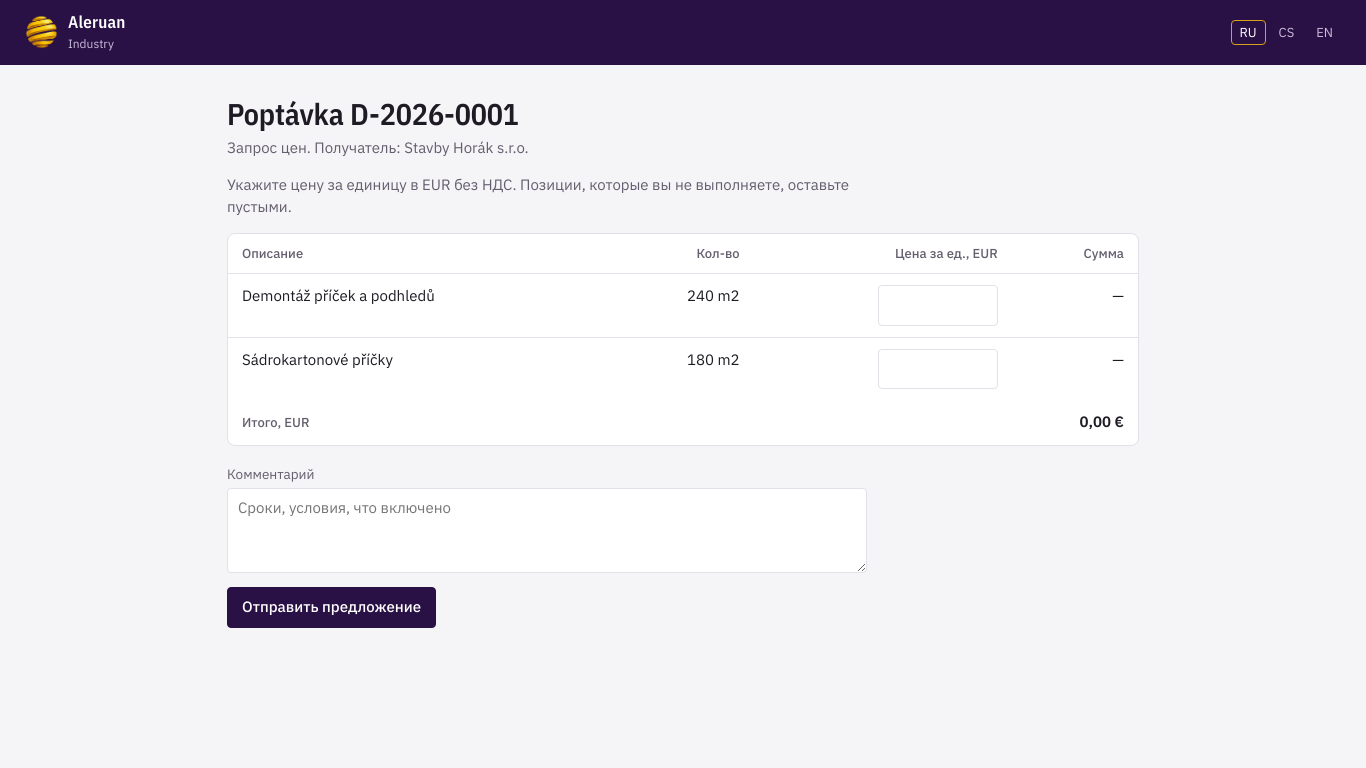
Scenario: deal screens › offer page: subcontractor fills prices and sends the offer
Expected: the text "Запрос цен. Получатель: Stavby Horák s.r.o." is shown, [227, 138, 529, 157]
Type "abc" into the field named "Цена за единицу" at (938, 305), box [878, 285, 998, 326]
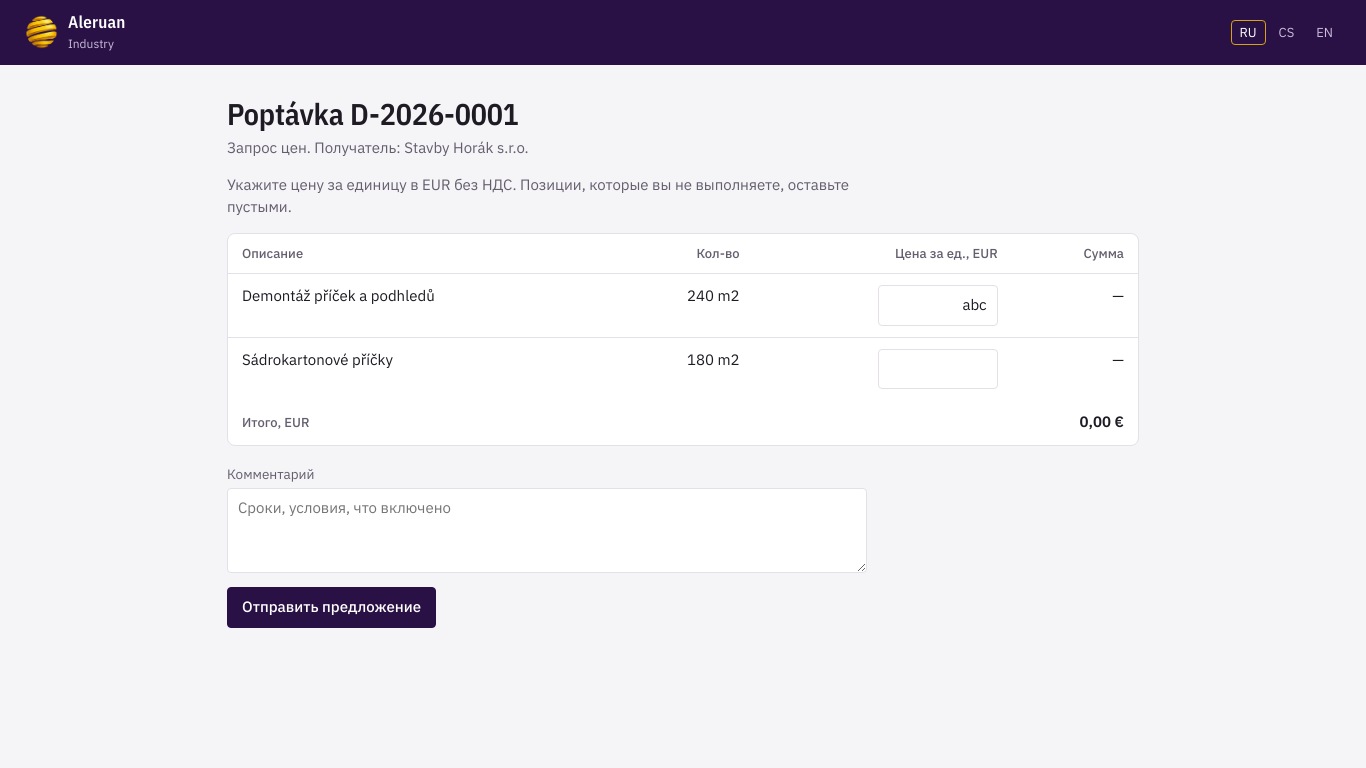
Click the button "Отправить предложение" at (332, 608), box [227, 587, 436, 628]
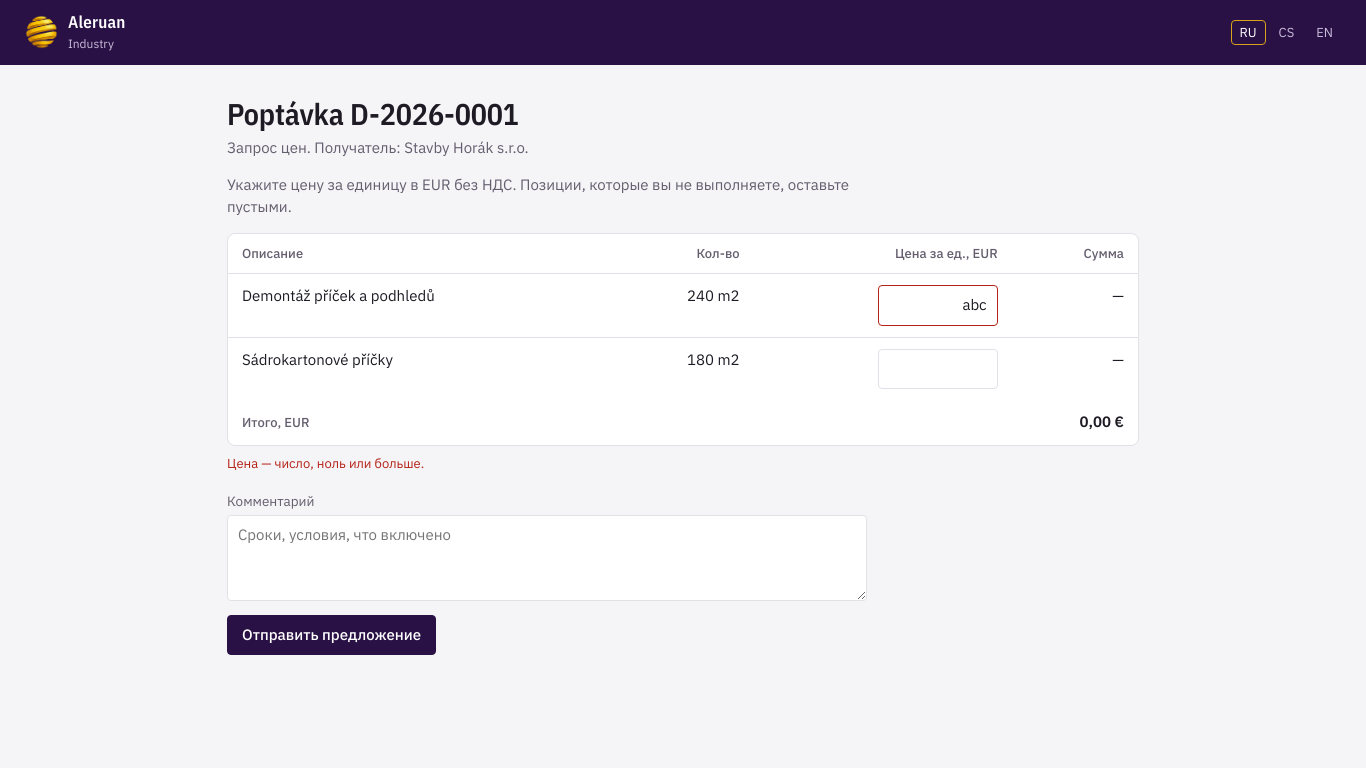
Expected: the text "Цена — число, ноль или больше." is shown, [227, 454, 424, 472]
Replace the text in the field named "Цена за единицу" with "9" at (938, 305), box [878, 285, 998, 326]
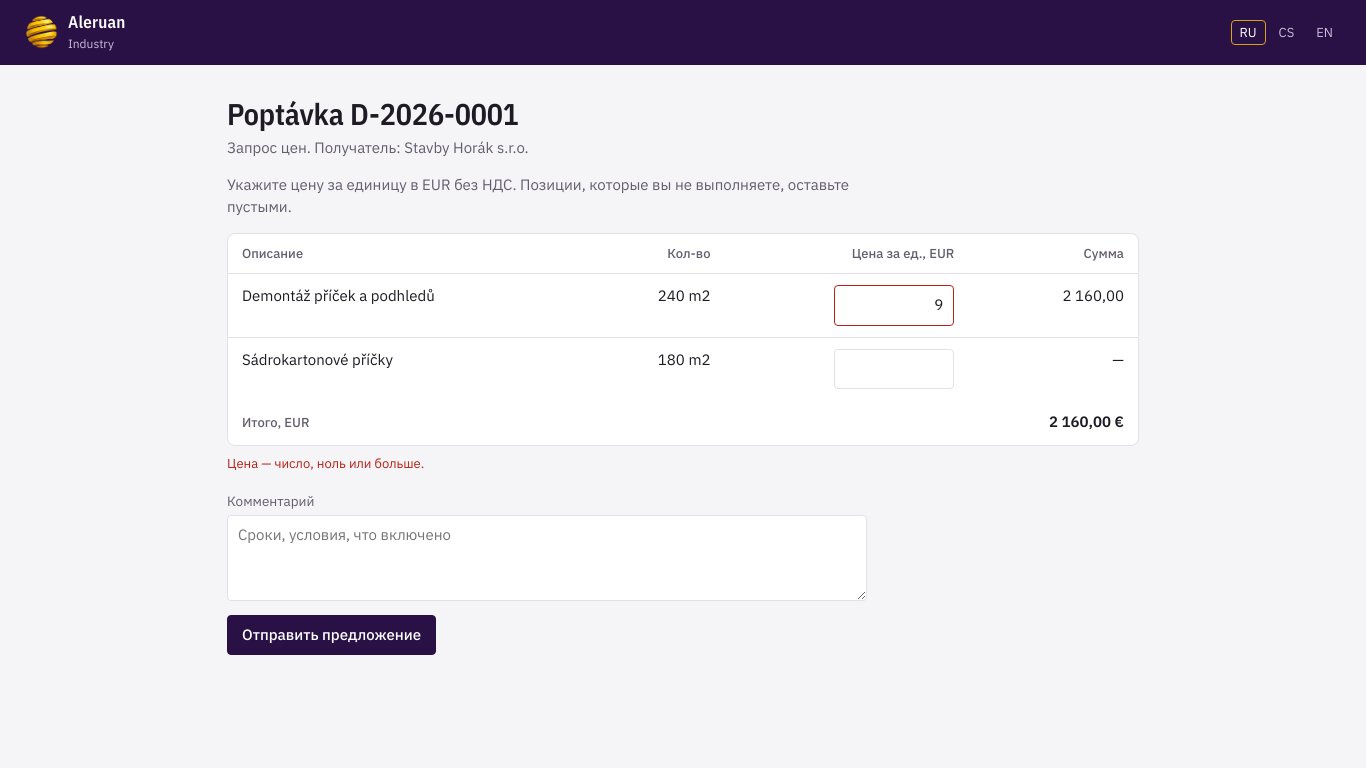
Type "22,5" into the field named "Цена за единицу" at (894, 369), box [834, 348, 954, 389]
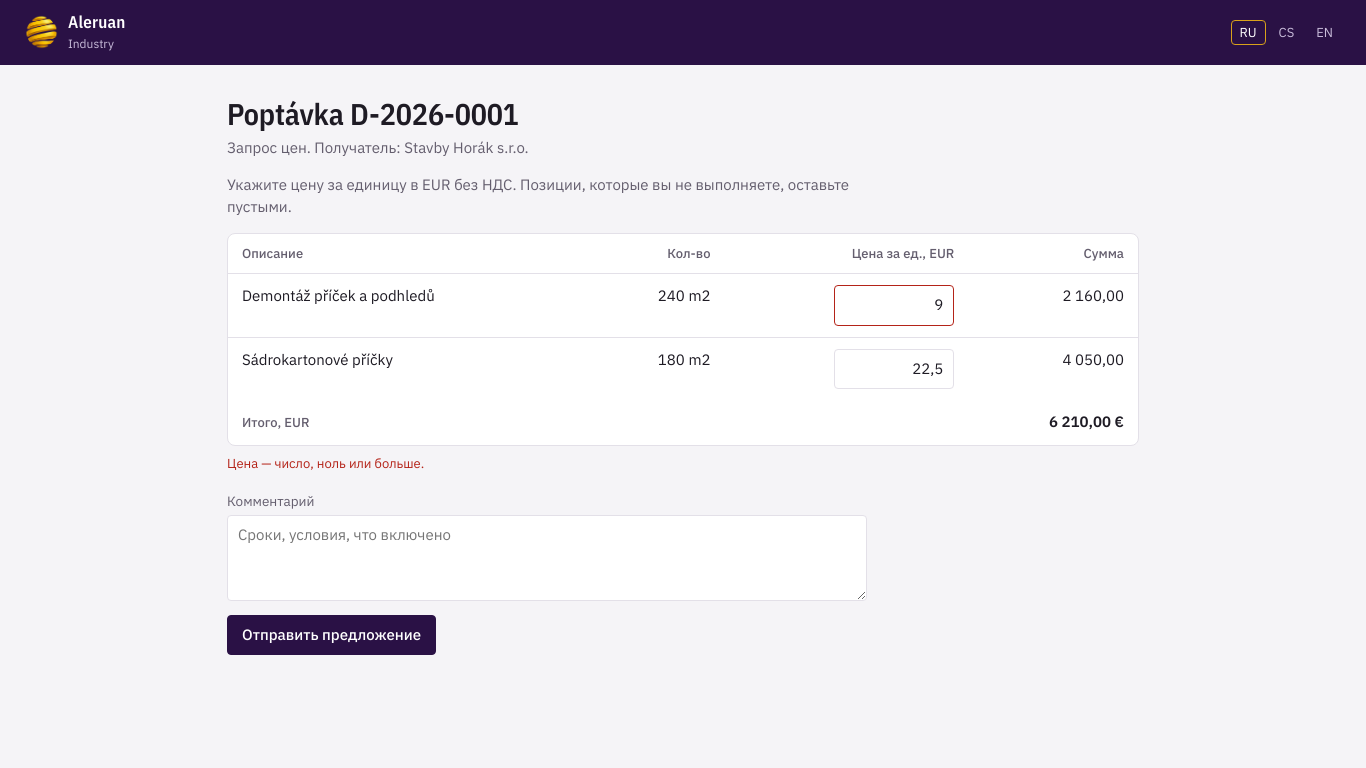
Click the button "Отправить предложение" at (332, 635), box [227, 615, 436, 655]
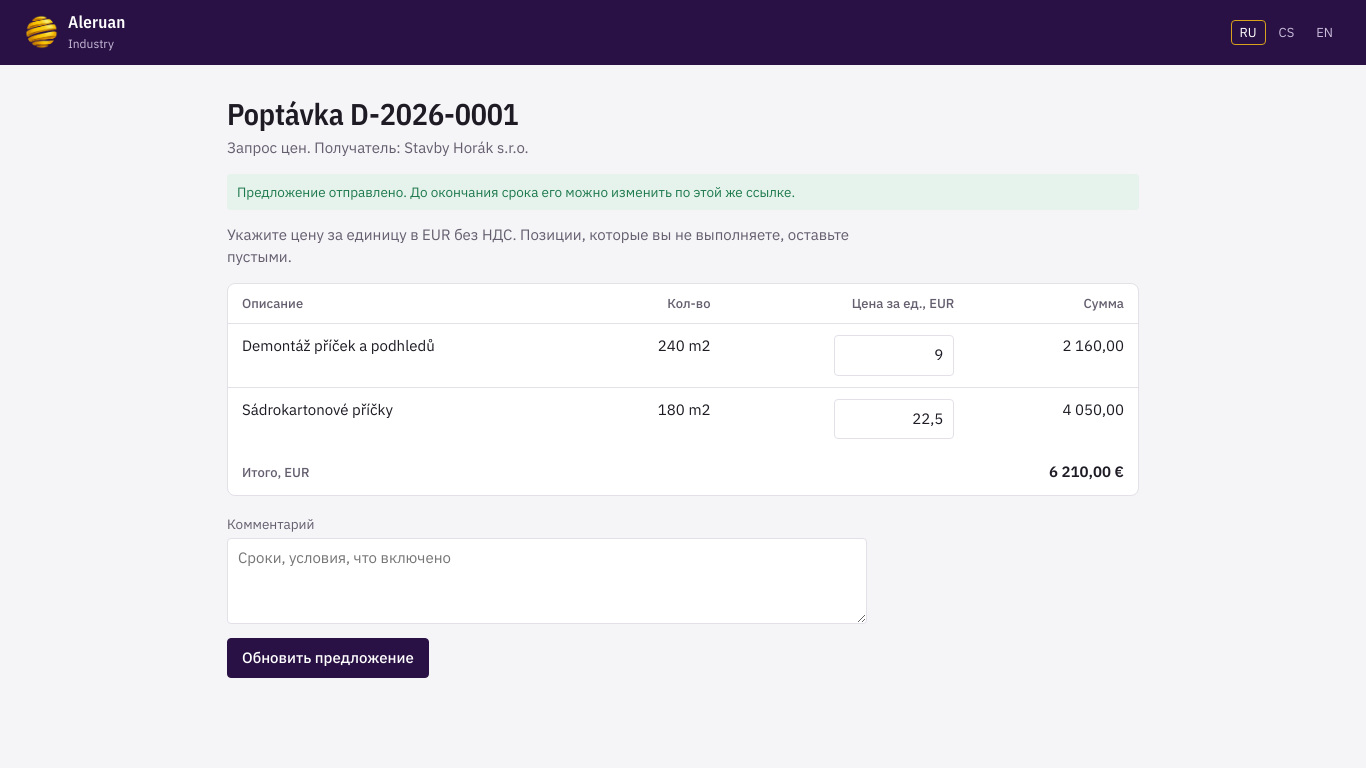
Expected: the message shows "Предложение отправлено", [237, 182, 795, 200]
